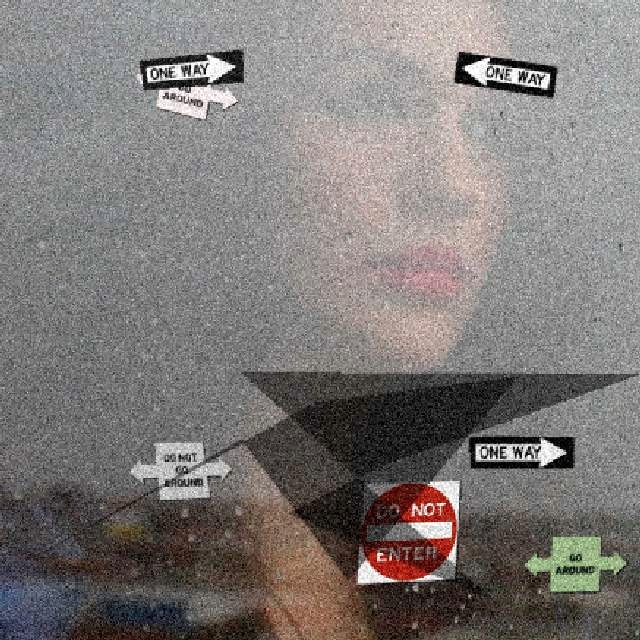DO_NOT_ENTER: (355, 479, 460, 584)
DO_NOT_GO_AROUND: (133, 56, 238, 120), (127, 440, 232, 500)
GO_AROUND: (522, 534, 627, 592)
ONE_WAY_ left: (452, 50, 557, 97)
ONE_WAY_ right: (138, 48, 243, 89), (468, 435, 573, 468)
